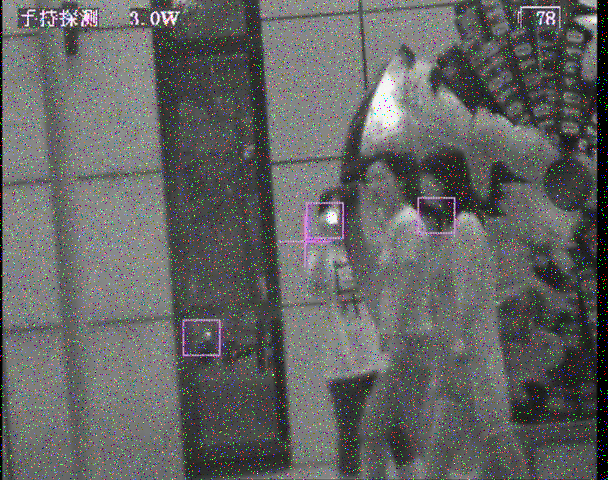my: (325, 210, 339, 225)
